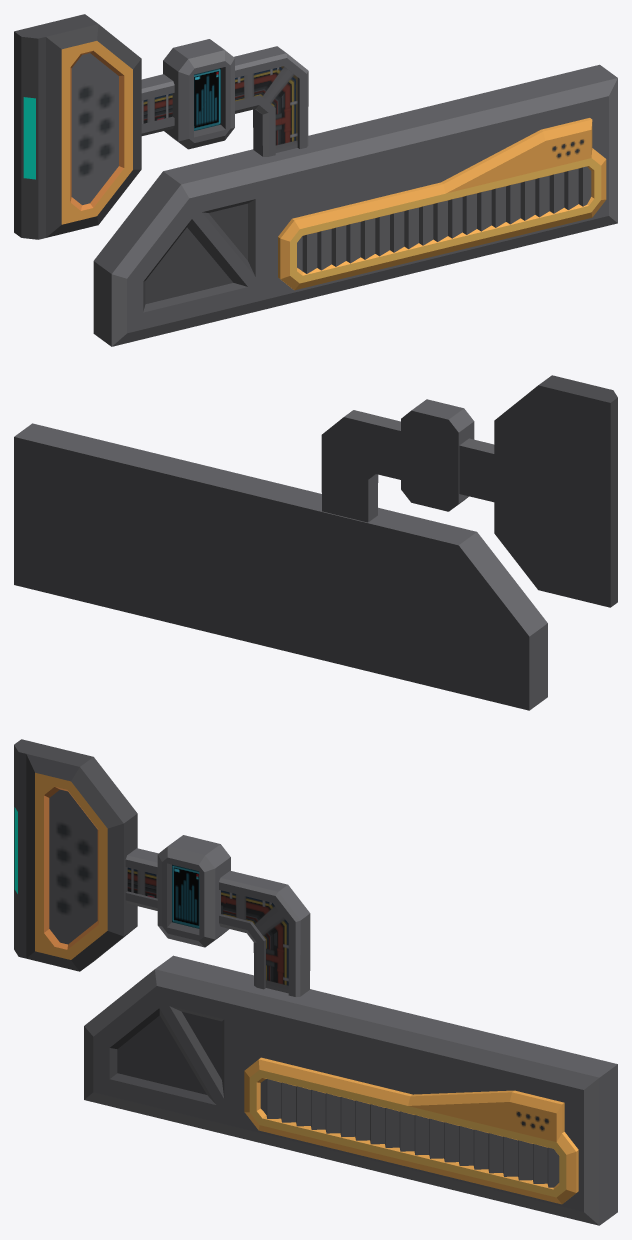
Rendered from SM_Prop_Greebles_15.fbx.
3 views of the same model, one above another, from view 1: azimuth 30°, elevation 25°; view 2: azimuth 150°, elevation 25°; view 3: azimuth 330°, elevation 25° (orthographic).
Parts seen in each view (by area): view 1: SM_Prop_Greebles_15; view 2: SM_Prop_Greebles_15; view 3: SM_Prop_Greebles_15.
Boxes of the visible parts, <box> form: SM_Prop_Greebles_15: <box>14,14,617,346</box>; SM_Prop_Greebles_15: <box>14,375,617,710</box>; SM_Prop_Greebles_15: <box>14,739,617,1225</box>.
Size of the model in its own units: 254 by 133 by 19.51.
